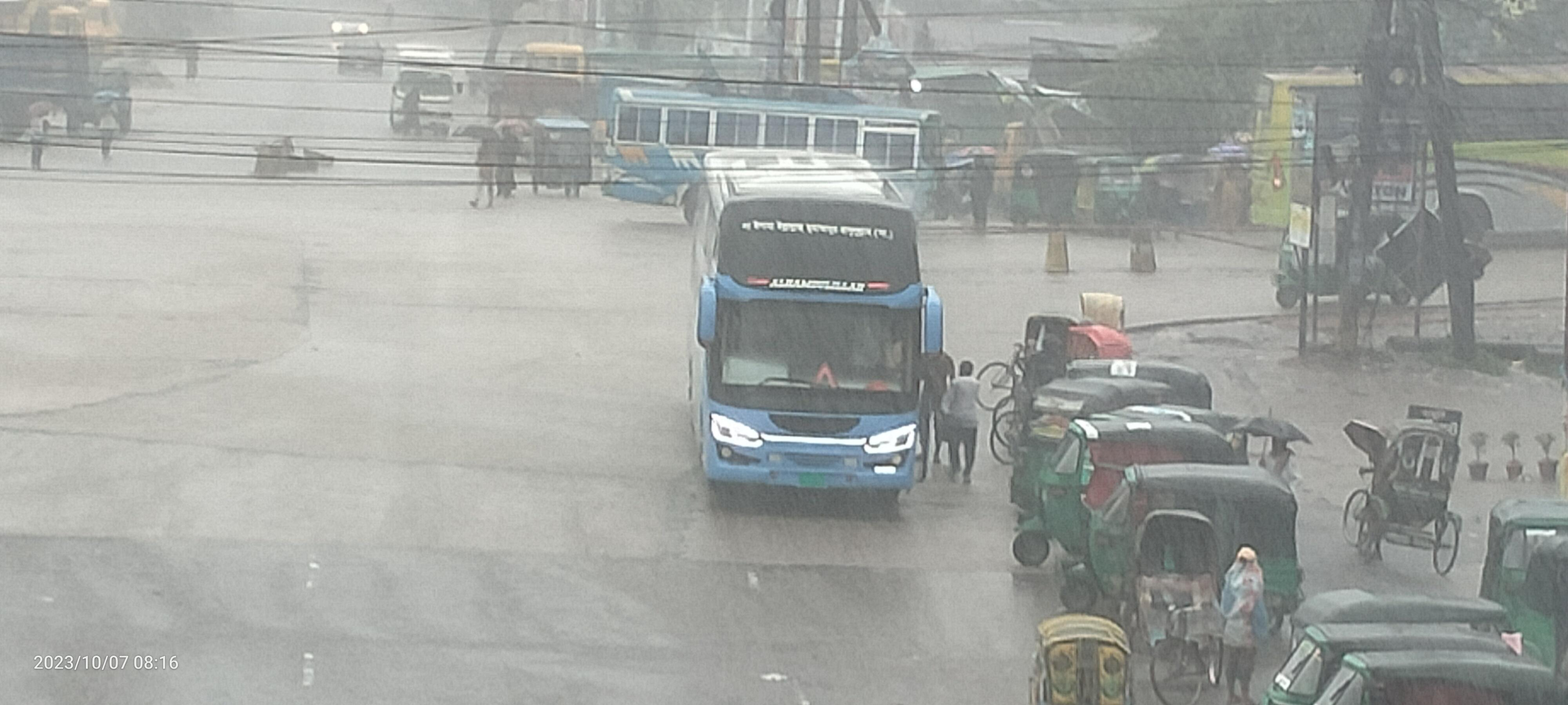Bus: (681, 138, 952, 530), (1232, 60, 1568, 265), (583, 63, 978, 232)
Car: (1118, 497, 1250, 705), (1339, 392, 1468, 584), (1010, 602, 1154, 705), (381, 42, 469, 143), (514, 108, 596, 202), (318, 13, 390, 77)
Truck: (0, 0, 162, 146)
